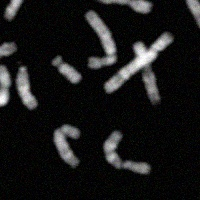chromosome: (103, 32, 172, 93), (101, 131, 150, 172), (85, 10, 115, 69), (134, 42, 160, 103), (53, 123, 80, 168), (16, 65, 37, 109), (0, 38, 17, 88), (50, 56, 81, 82), (96, 0, 151, 14), (4, 0, 31, 20), (182, 0, 200, 28), (0, 66, 11, 108)
